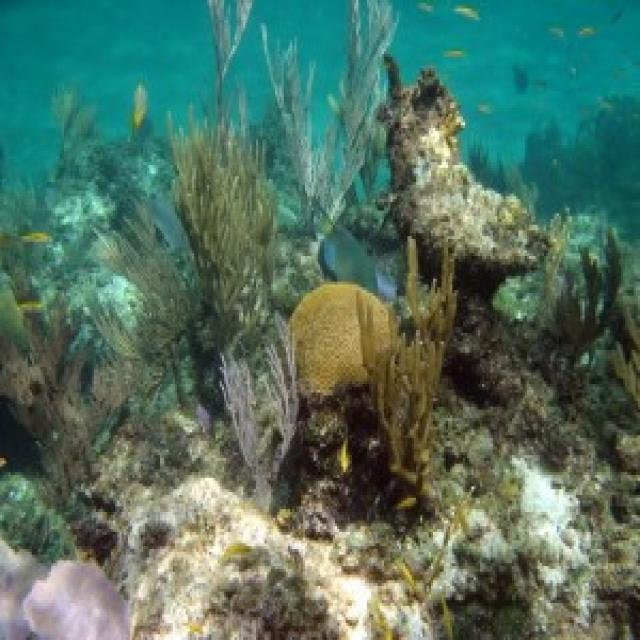Bleached: (129, 479, 368, 638)
Healthy: (381, 61, 539, 274), (261, 1, 398, 229), (1, 291, 144, 504), (357, 240, 455, 507), (172, 123, 276, 345), (91, 200, 195, 402), (323, 1, 398, 220), (221, 320, 298, 507), (1, 539, 129, 638), (291, 283, 389, 394), (12, 266, 39, 305)
